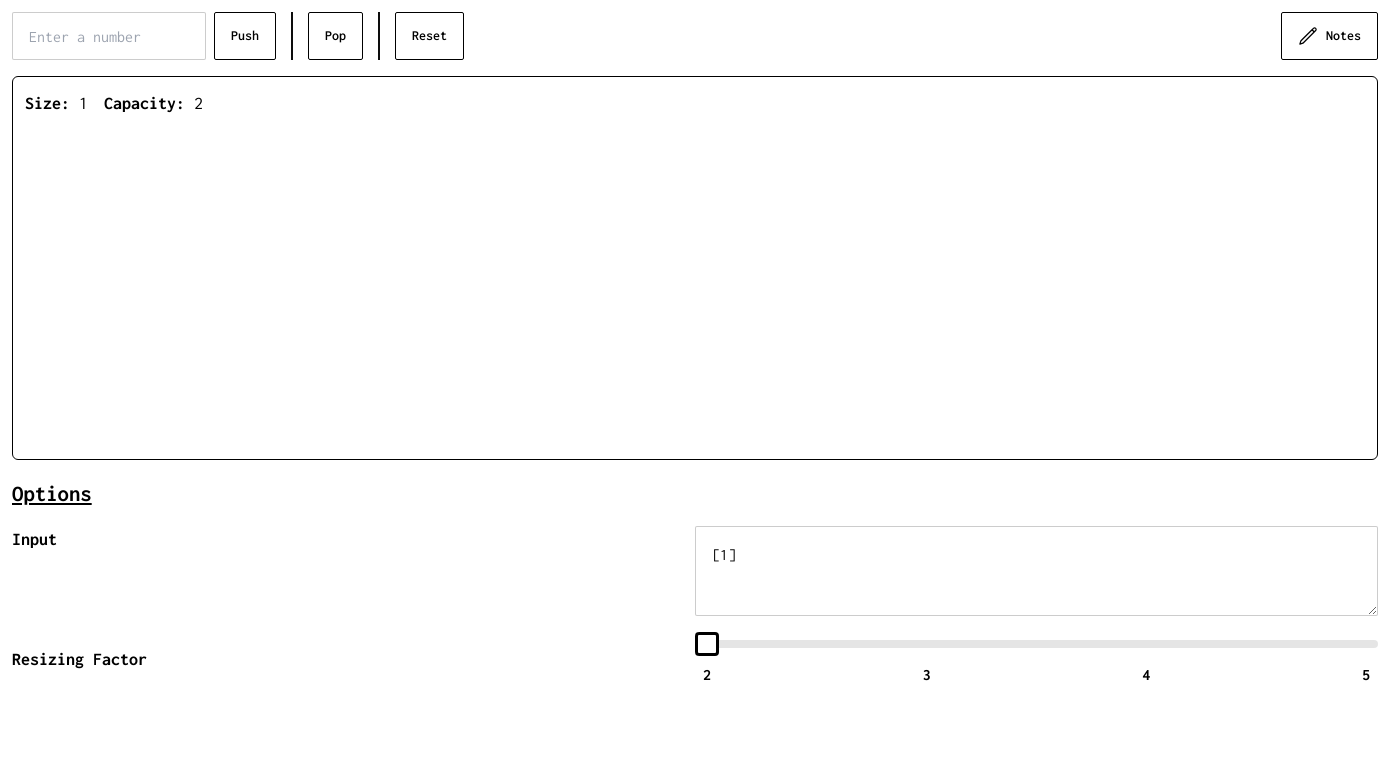
Test: DynamicArrayPG › should update state when pushing a new element
This screenshot has width=1390, height=780.
Type "5" into the field with placeholder "Enter a number" at (109, 36), box [12,12,206,60]
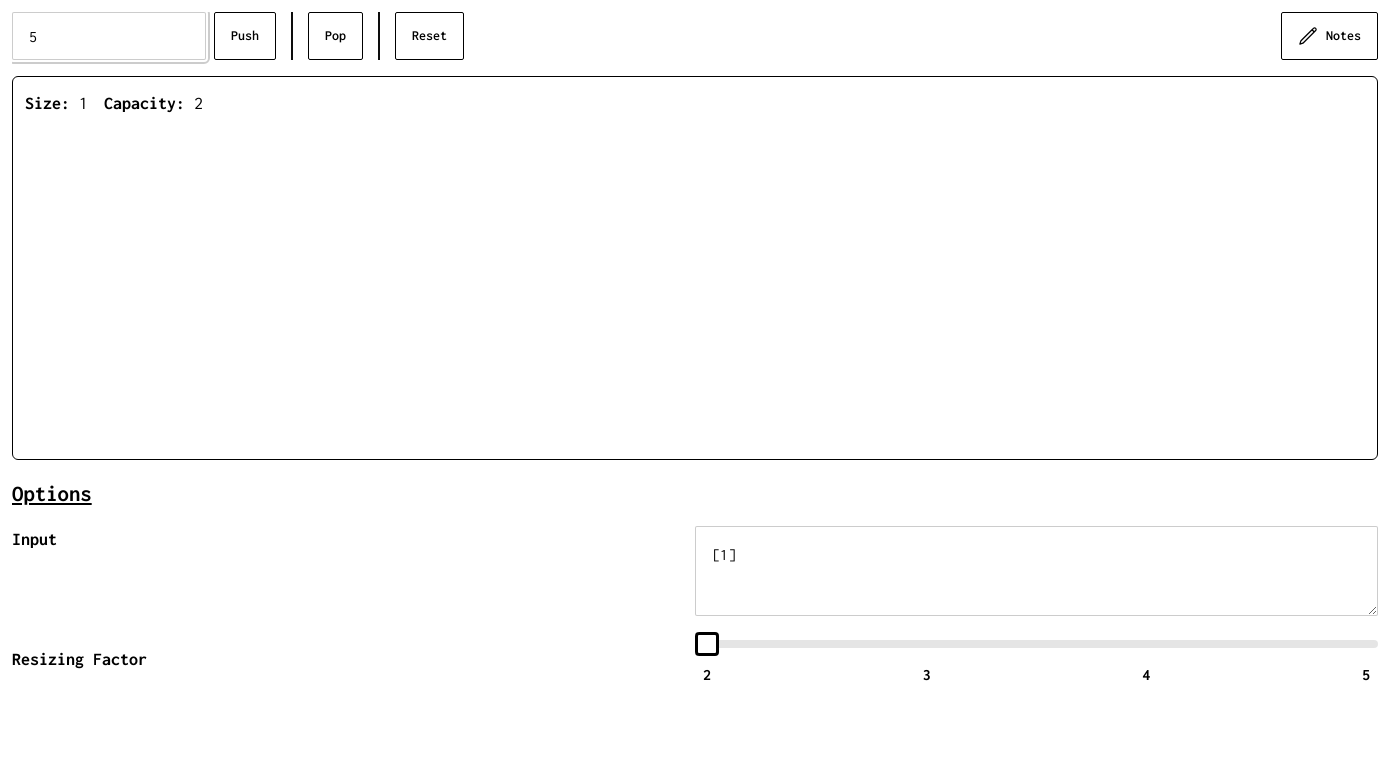
Click the button "Push" at (245, 36), box [214,12,276,60]
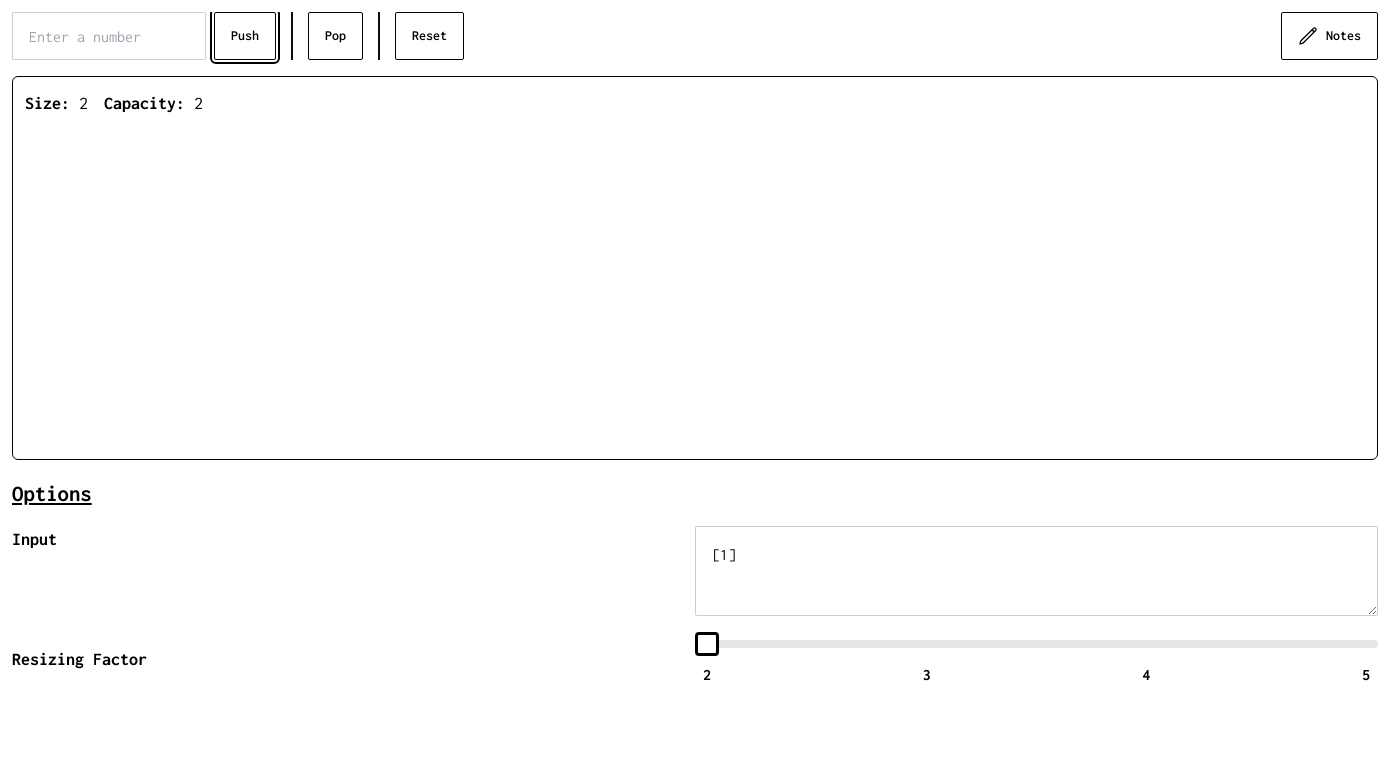
Check: the text with test id "size" reads "2", box [79,94,88,112]
